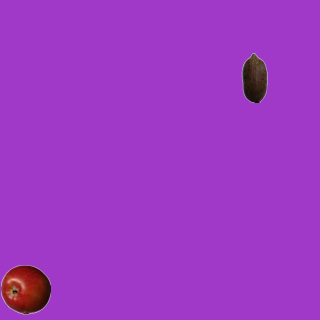Apple Braeburn: (0, 264, 50, 314)
Nut Pecan: (229, 52, 279, 102)
